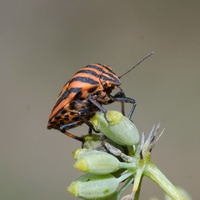insect: (47, 64, 134, 140)
